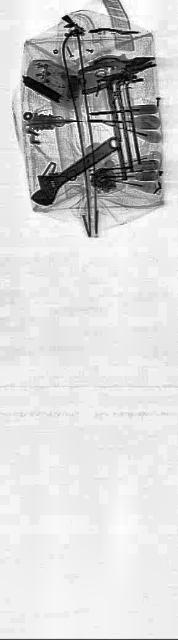Pliers: (94, 37, 154, 94)
Wrench: (29, 122, 117, 215)
